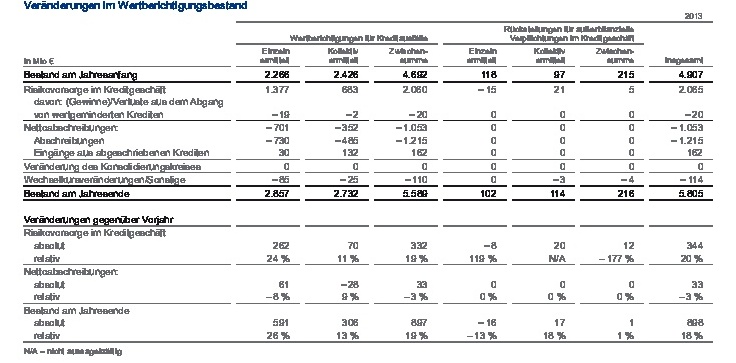table: (0, 0, 736, 363)
